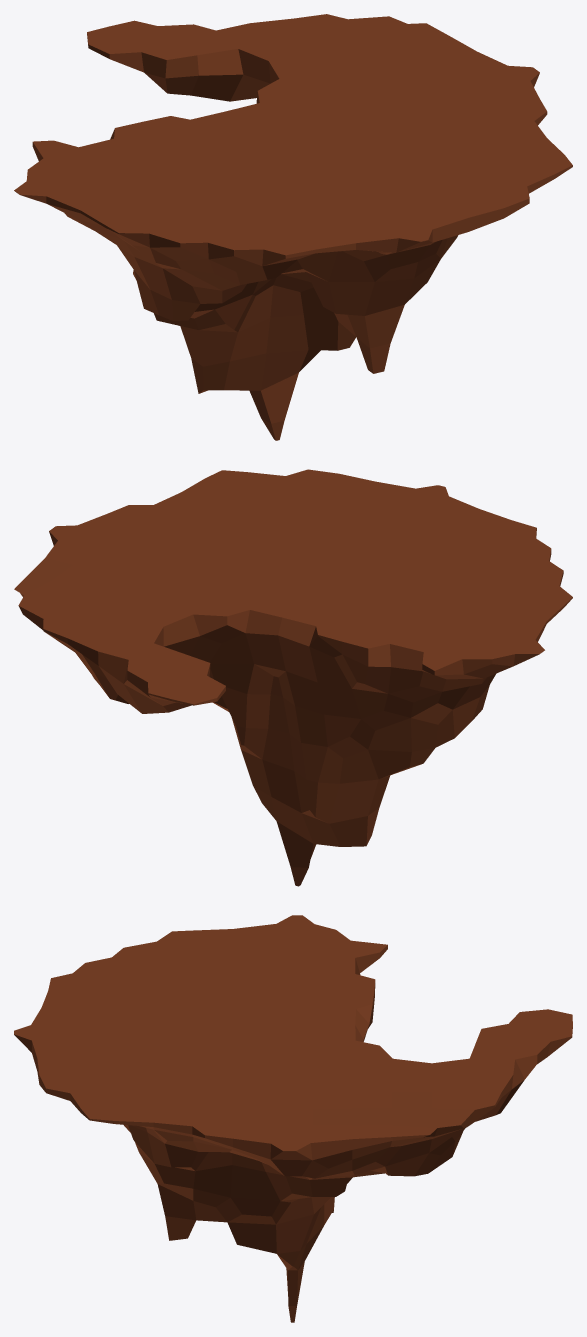
File: islanda.fbx
3 renders of one model, top to bottom at view 1: azimuth 30°, elevation 25°; view 2: azimuth 150°, elevation 25°; view 3: azimuth 270°, elevation 25°, orthographic. The views are drawn at different scales.
Parts seen in each view (by area): view 1: Landscape.001; view 2: Landscape.001; view 3: Landscape.001.
Part boxes in pixels (box(x1,y1,x2,y2)): Landscape.001: box(14, 14, 572, 440); Landscape.001: box(14, 469, 572, 886); Landscape.001: box(14, 915, 572, 1322).
Bounding box in the file's own units: 157 × 89.69 × 157.
